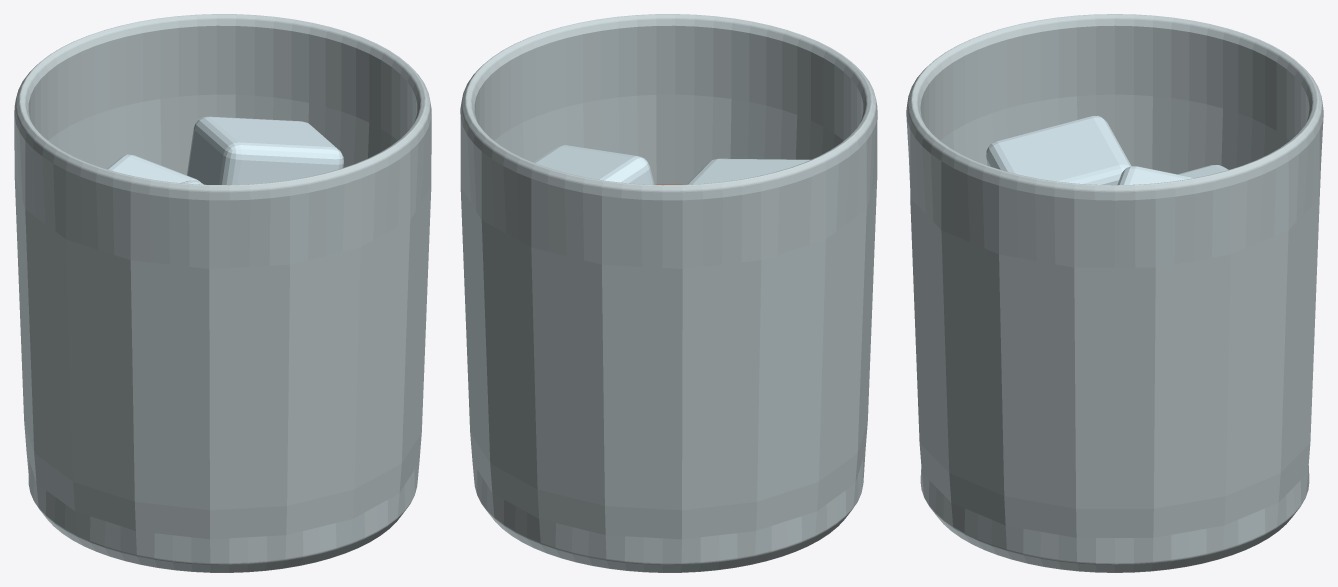
Rendered from WhiskeyGlass.fbx.
The picture shows the model from 3 angles, left to right: view 1: azimuth 30°, elevation 25°; view 2: azimuth 150°, elevation 25°; view 3: azimuth 270°, elevation 25°; orthographic projection.
Visible parts, largest first — view 1: CrystalRocksGlass, IceCube_02, IceCube_03; view 2: CrystalRocksGlass, IceCube_02, IceCube_01; view 3: CrystalRocksGlass, IceCube_01, IceCube_02.
Boxes of the visible parts, x1=… form: CrystalRocksGlass: x1=14, y1=14, x2=431, y2=572; IceCube_02: x1=187, y1=116, x2=343, y2=184; IceCube_03: x1=107, y1=154, x2=200, y2=182; CrystalRocksGlass: x1=460, y1=14, x2=877, y2=572; IceCube_02: x1=533, y1=145, x2=654, y2=184; IceCube_01: x1=687, y1=158, x2=810, y2=184; CrystalRocksGlass: x1=906, y1=14, x2=1323, y2=572; IceCube_01: x1=986, y1=116, x2=1131, y2=185; IceCube_02: x1=1117, y1=166, x2=1193, y2=184.
Bounding box in the file's own units: 8.8 × 9.29 × 8.8.
